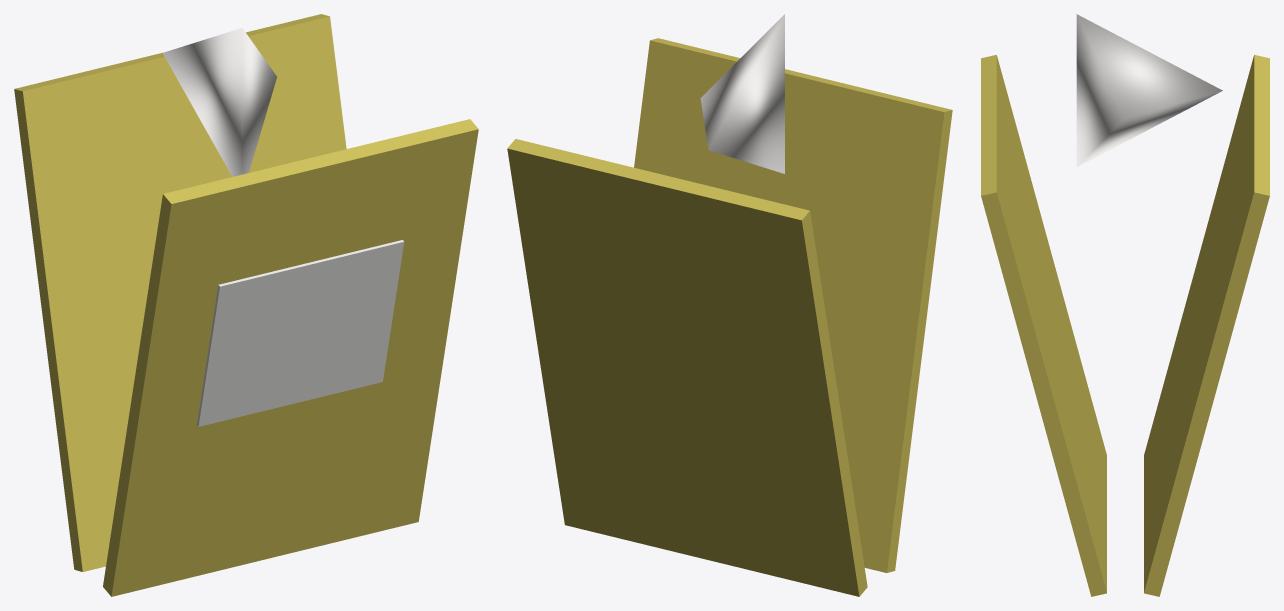
File: prop_tate_triangle_yellow.glb
3 views of the same model, side by side, from view 1: azimuth 30°, elevation 25°; view 2: azimuth 150°, elevation 25°; view 3: azimuth 270°, elevation 25° (orthographic). The views are drawn at different scales.
Visible parts, largest first — view 1: tate_triangle_yellow; view 2: tate_triangle_yellow; view 3: tate_triangle_yellow.
Part boxes in pixels (x1,y1,x2,y2): tate_triangle_yellow: [14, 14, 478, 596]; tate_triangle_yellow: [507, 14, 952, 596]; tate_triangle_yellow: [981, 14, 1269, 596].
Bounding box in the file's own units: 1 × 1.7 × 0.8872.
